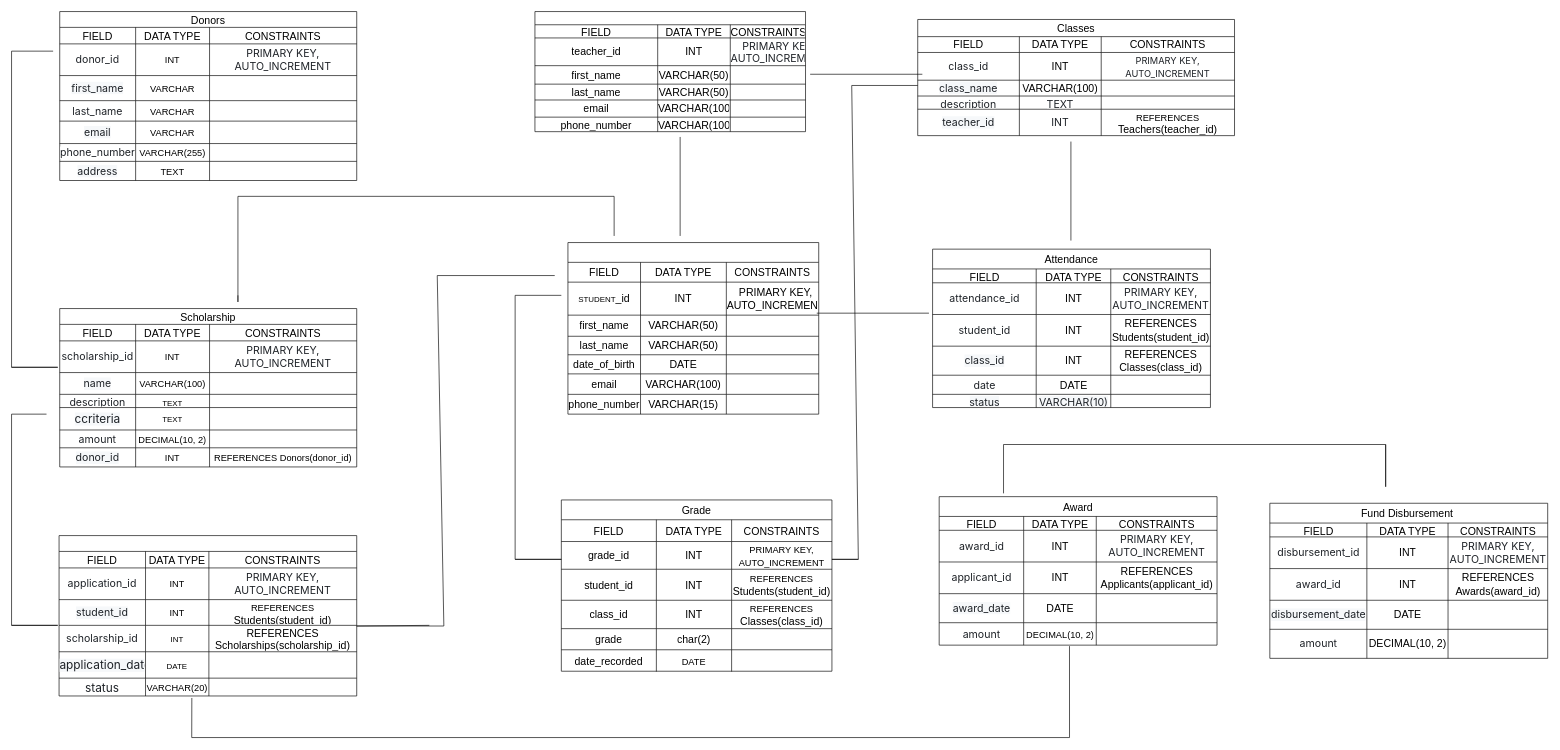
This 1560x750 diagram has some shape labels left out. Here are the shapes that lost their labels. From the top down, the box of each, then its label:
(534, 11, 806, 132): Teachers
(567, 242, 819, 414): Students
(58, 535, 357, 696): Applicant
